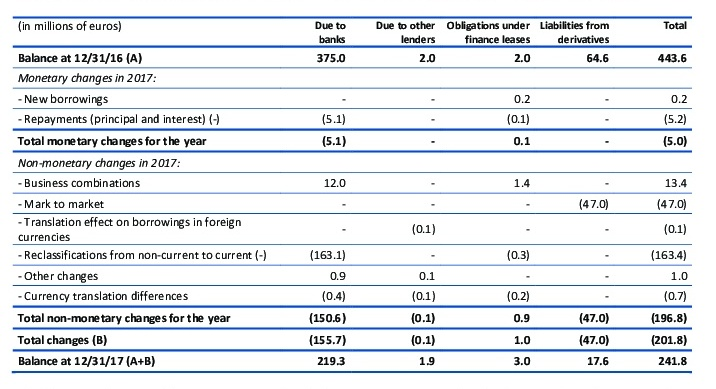table: (0, 0, 716, 389)
